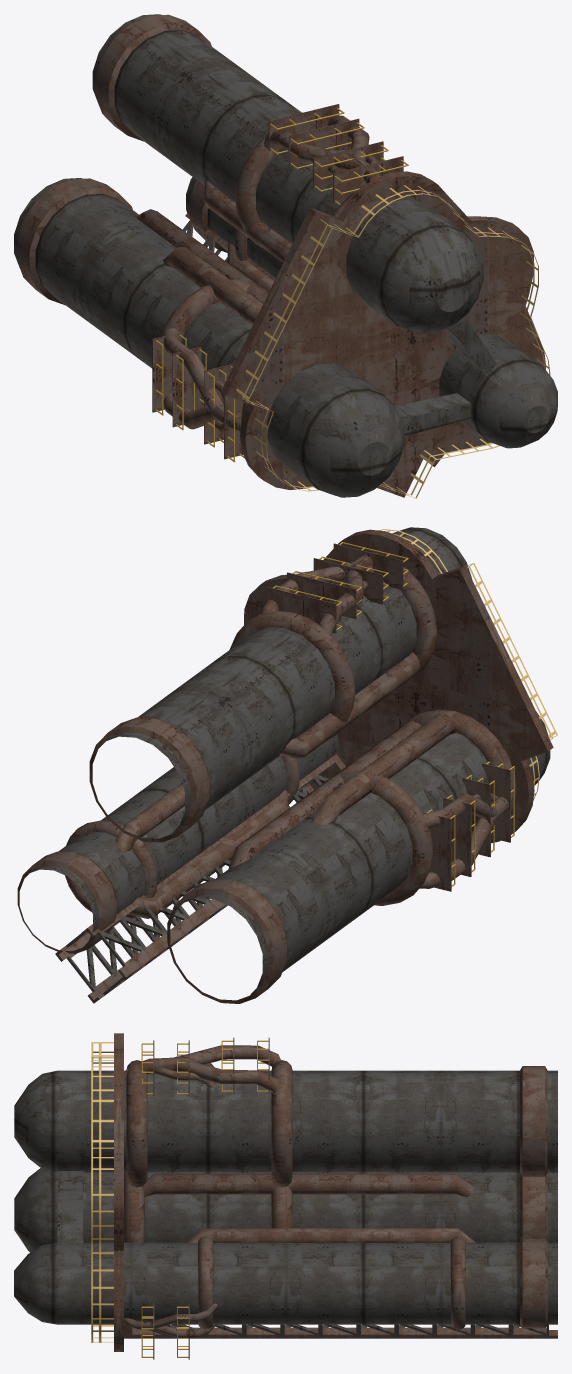
The model's file is buid13.gltf.
3 renders of one model, top to bottom at view 1: azimuth 30°, elevation 25°; view 2: azimuth 150°, elevation 25°; view 3: azimuth 270°, elevation 25°, orthographic. The views are drawn at different scales.
Bounding box in the file's own units: 26.24 × 24.72 × 43.03.
4 materials, 4 textured.
